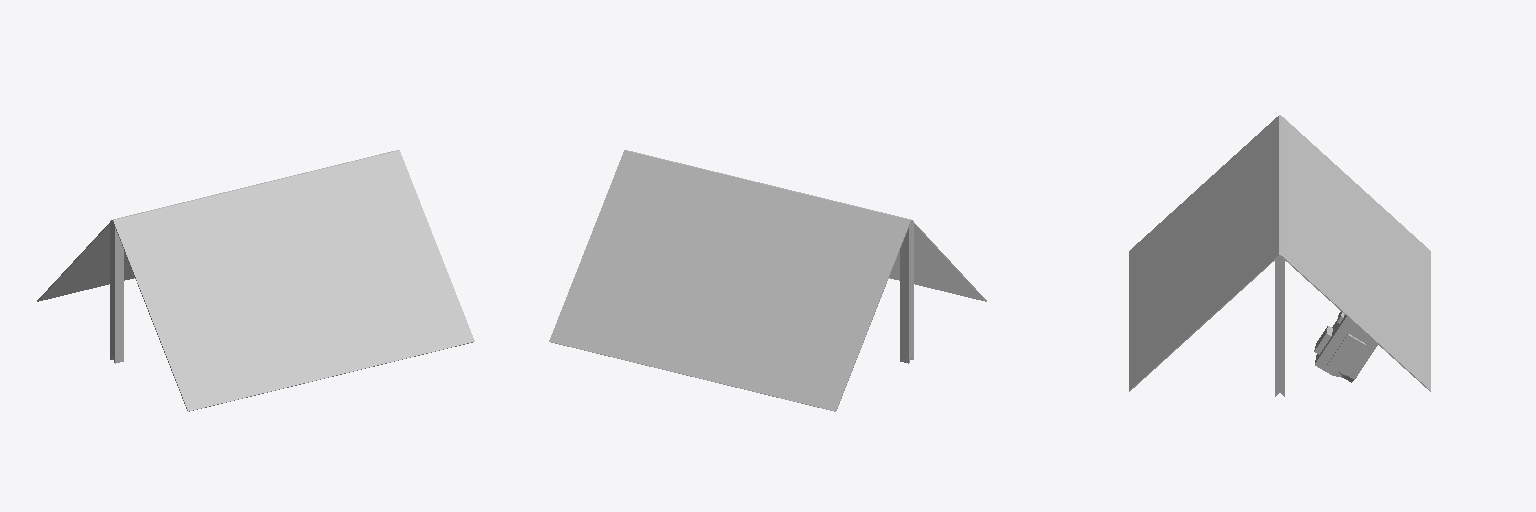
File: tent.obj
3 renders of one model, left to right at view 1: azimuth 30°, elevation 25°; view 2: azimuth 150°, elevation 25°; view 3: azimuth 270°, elevation 25°, orthographic.
Visible parts, largest first — view 1: Cube_Cube.001; view 2: Cube_Cube.001; view 3: Cube_Cube.001, Cube.001_Cube.003.
Boxes of the visible parts, <box> form: Cube_Cube.001: <box>37,150,474,411</box>; Cube_Cube.001: <box>549,150,986,411</box>; Cube_Cube.001: <box>1129,115,1430,396</box>; Cube.001_Cube.003: <box>1314,311,1377,382</box>.
Size of the model in its own units: 4.95 by 2.34 by 4.52.